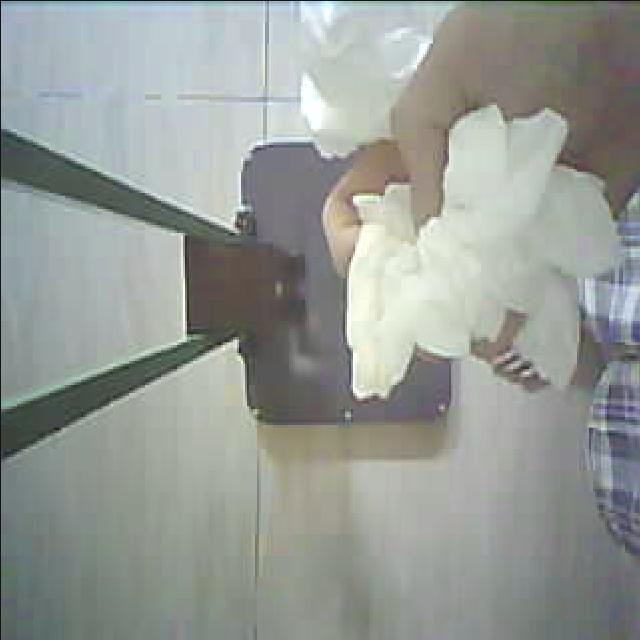Paper: (292, 61, 626, 434)
